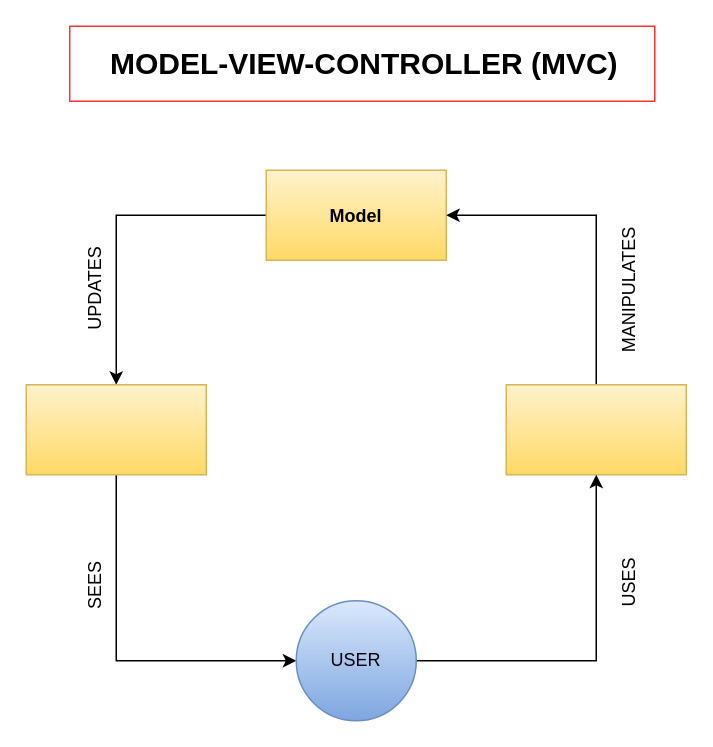
Some shapes in this 713 by 747 pixel diagram are drawn without their labels. Here are the shapes that lost their labels. From the top down, the centre of each, then its label:
At point 115,429: "View".
At point 595,429: "Controller".
